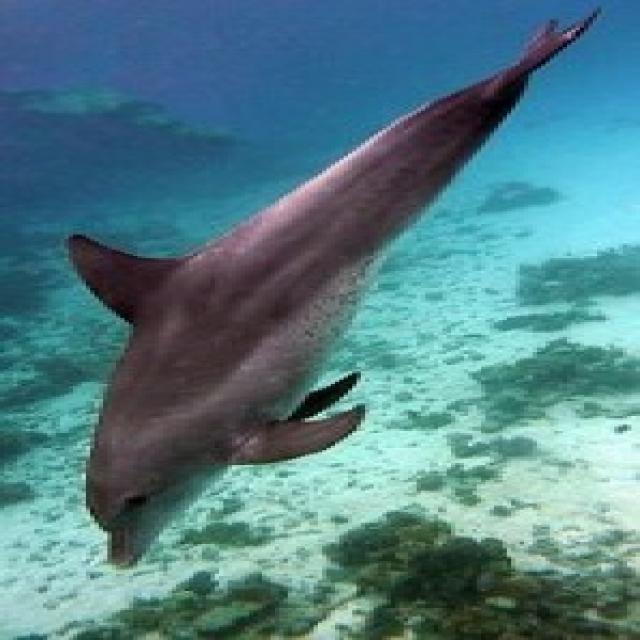Dolphin: (49, 0, 617, 566)
